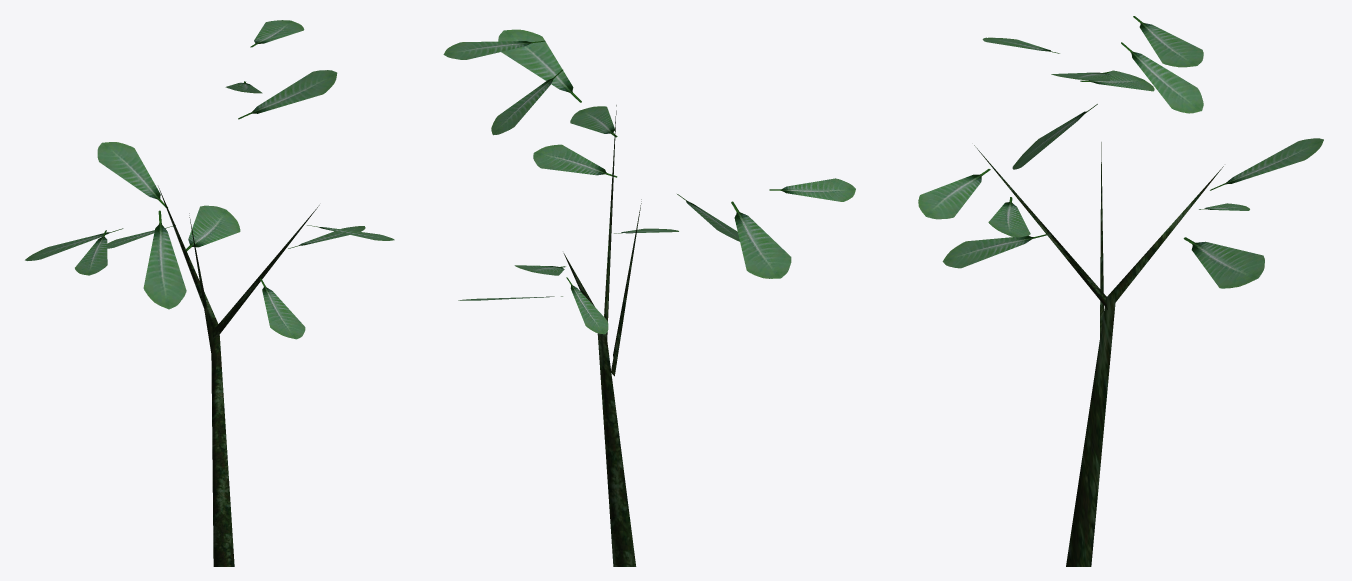
The model's file is leaf_sapling_l2.fbx.
3 renders of one model, left to right at view 1: azimuth 30°, elevation 25°; view 2: azimuth 150°, elevation 25°; view 3: azimuth 270°, elevation 25°, orthographic. The views are drawn at different scales.
Visible parts, largest first — view 1: mesh_node; view 2: mesh_node; view 3: mesh_node.
Part boxes in pixels (x1,y1,x2,y2): mesh_node: (25,20,394,566); mesh_node: (443,29,855,566); mesh_node: (918,16,1323,566).
Bounding box in the file's own units: 1.49 × 2.1 × 1.46.
1 material, 1 textured.
